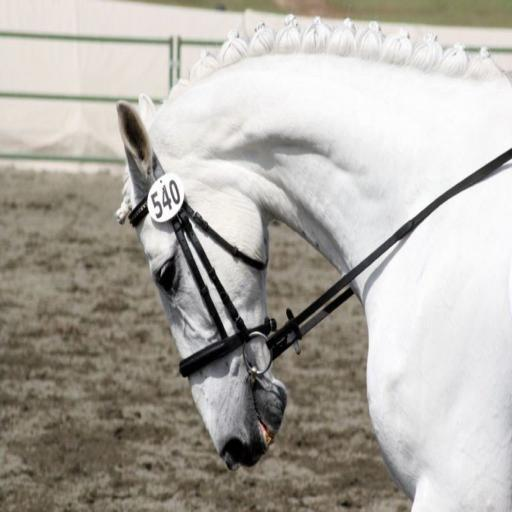horse: (114, 10, 512, 512)
